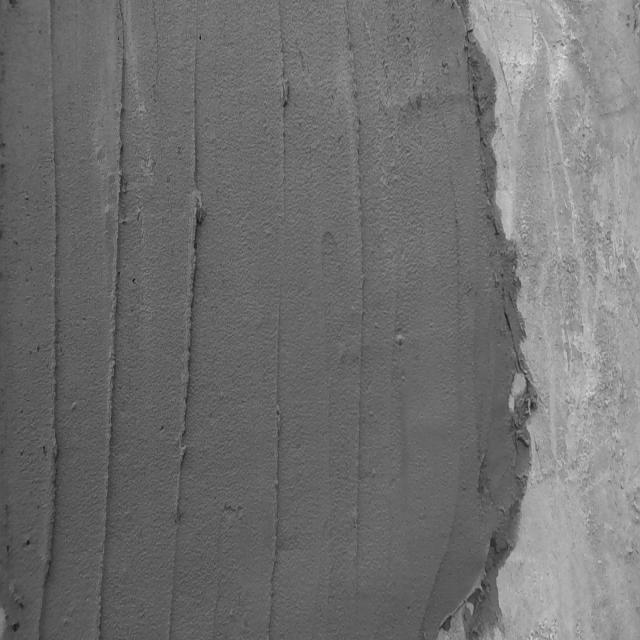trowels marks: (97, 23, 131, 640), (32, 0, 64, 640), (171, 29, 204, 540), (271, 20, 292, 638), (353, 42, 367, 611)
